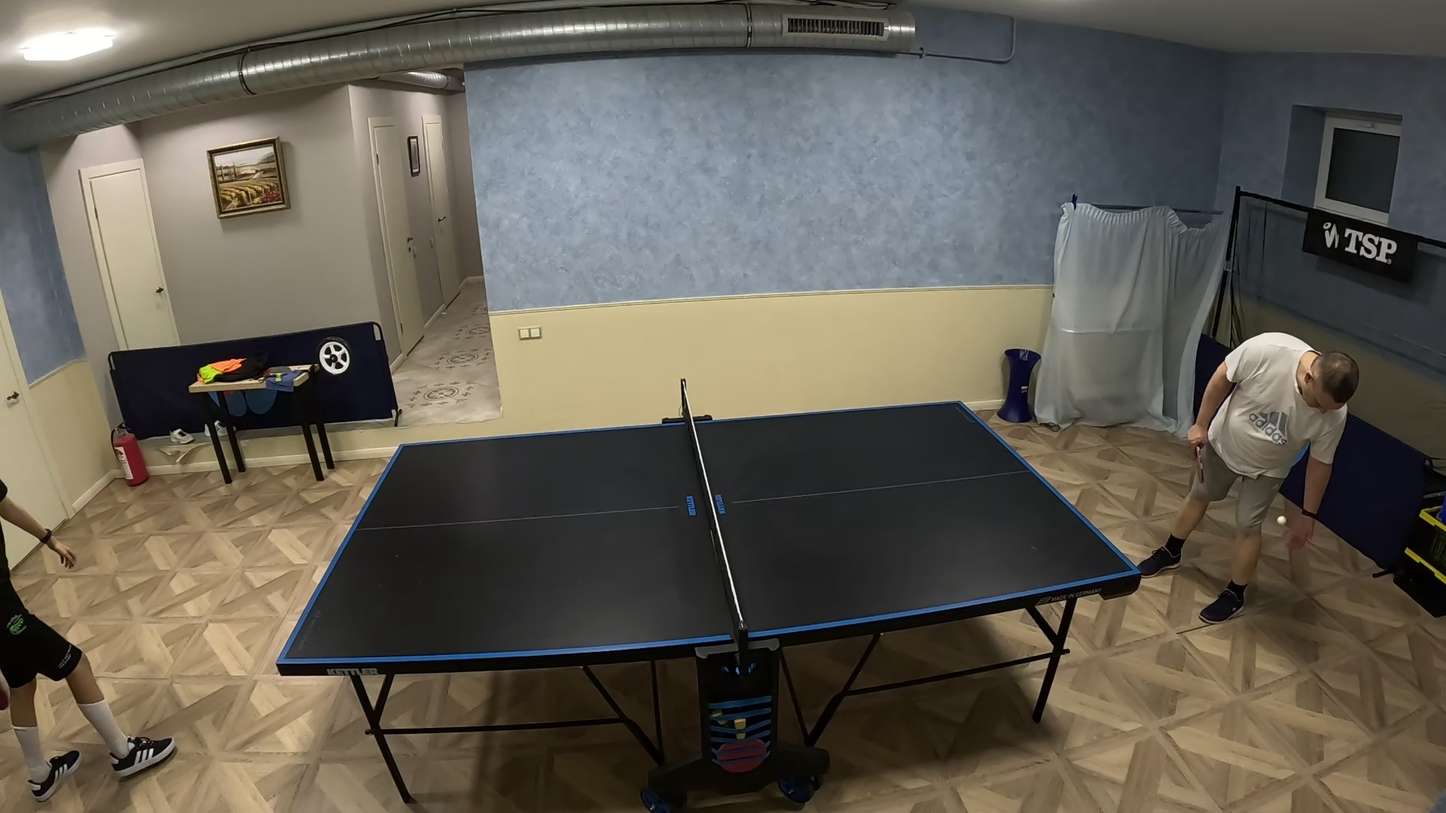Ball: (1277, 515, 1287, 525)
